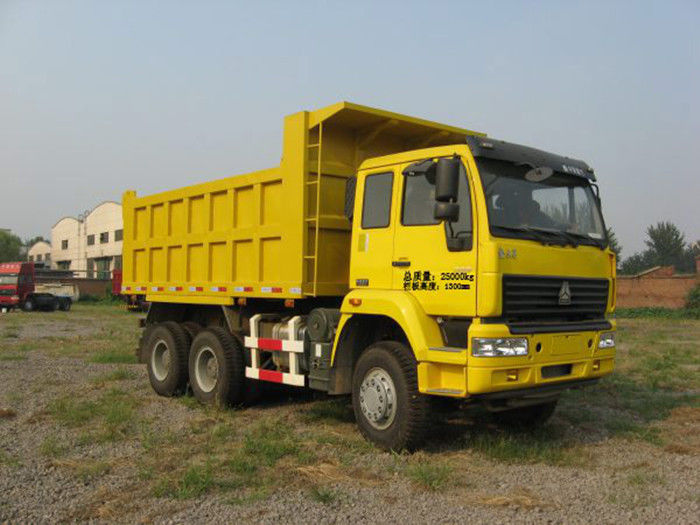truck: (119, 96, 619, 455)
